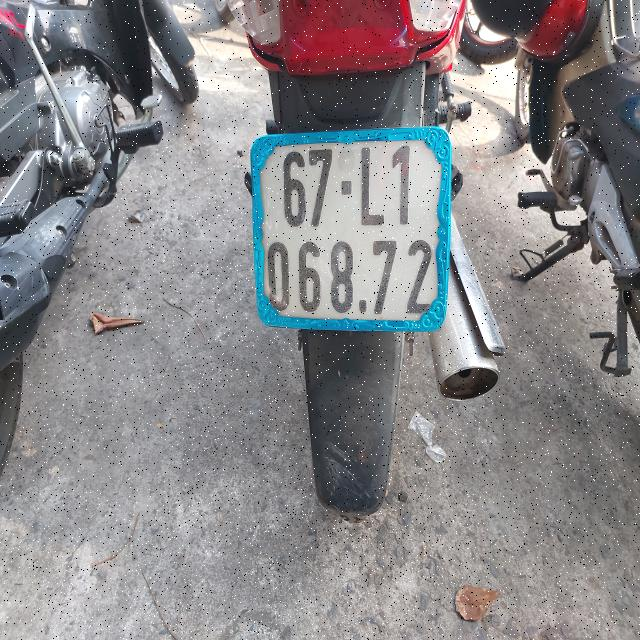0: (262, 240, 292, 320)
1: (390, 140, 412, 233)
2: (406, 236, 433, 314)
6: (275, 148, 309, 226), (297, 239, 327, 314)
7: (367, 238, 399, 320), (310, 145, 334, 230)
8: (328, 240, 355, 316)
L: (353, 139, 385, 228)
